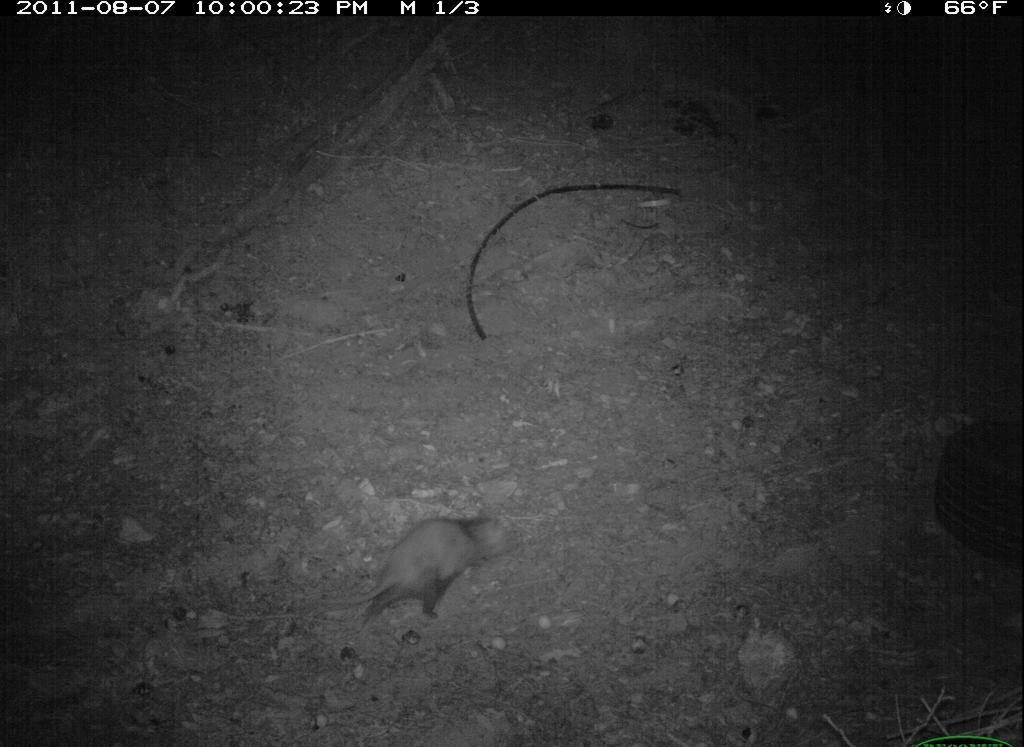opossum: (315, 493, 525, 639)
